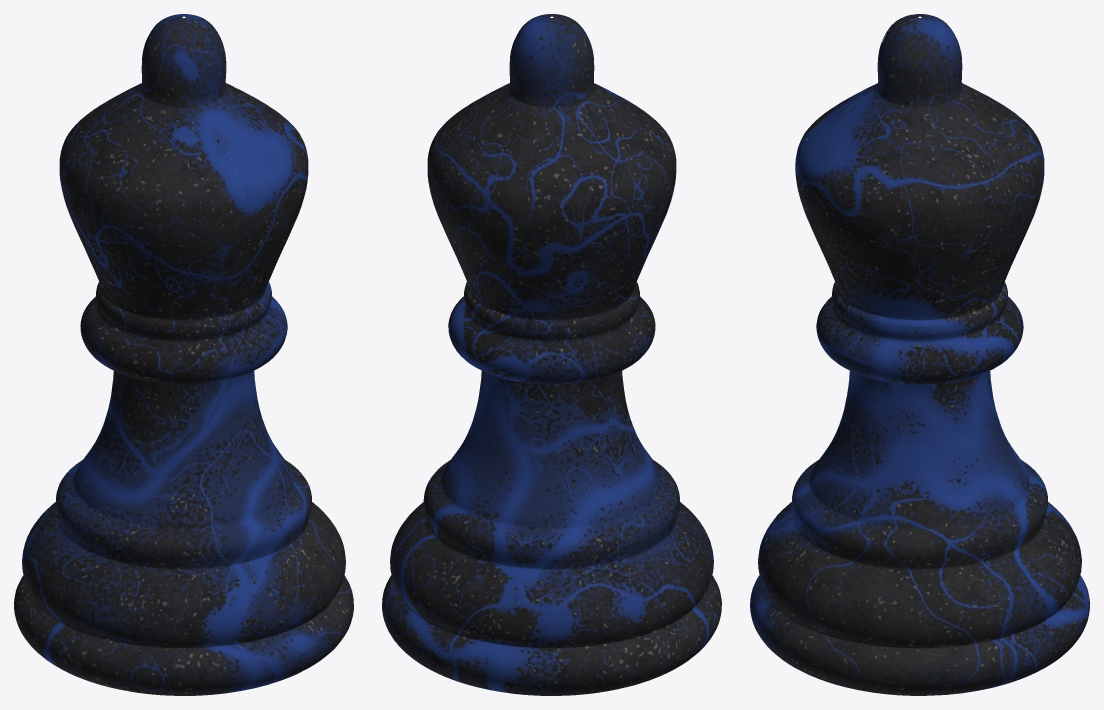
The model's file is bishop-black-hd.glb.
The picture shows the model from 3 angles, left to right: view 1: azimuth 30°, elevation 25°; view 2: azimuth 150°, elevation 25°; view 3: azimuth 270°, elevation 25°; orthographic projection.
Visible parts, largest first — view 1: Cobalt Vein black bishop; view 2: Cobalt Vein black bishop; view 3: Cobalt Vein black bishop.
Boxes of the visible parts, <box> form: Cobalt Vein black bishop: <box>14,14,353,695</box>; Cobalt Vein black bishop: <box>382,14,721,695</box>; Cobalt Vein black bishop: <box>750,14,1089,695</box>.
Size of the model in its own units: 0.5719 by 1.15 by 0.5719.
Materials: 1 (1 with a texture image).
